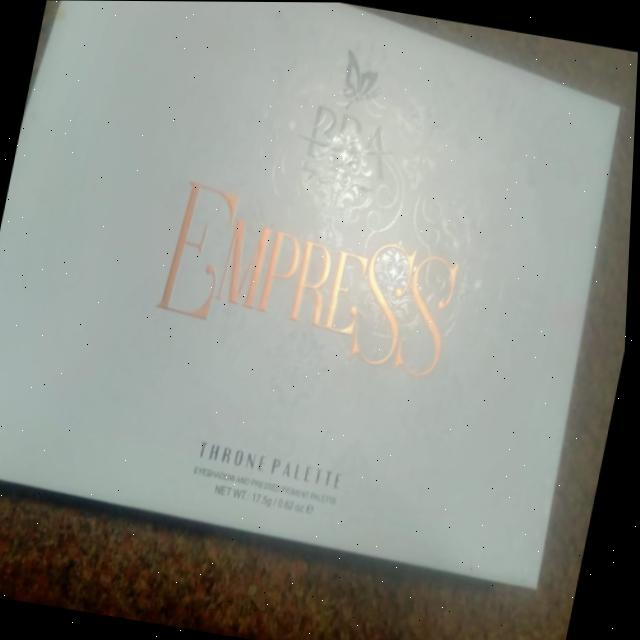makeup: (0, 0, 640, 600)
